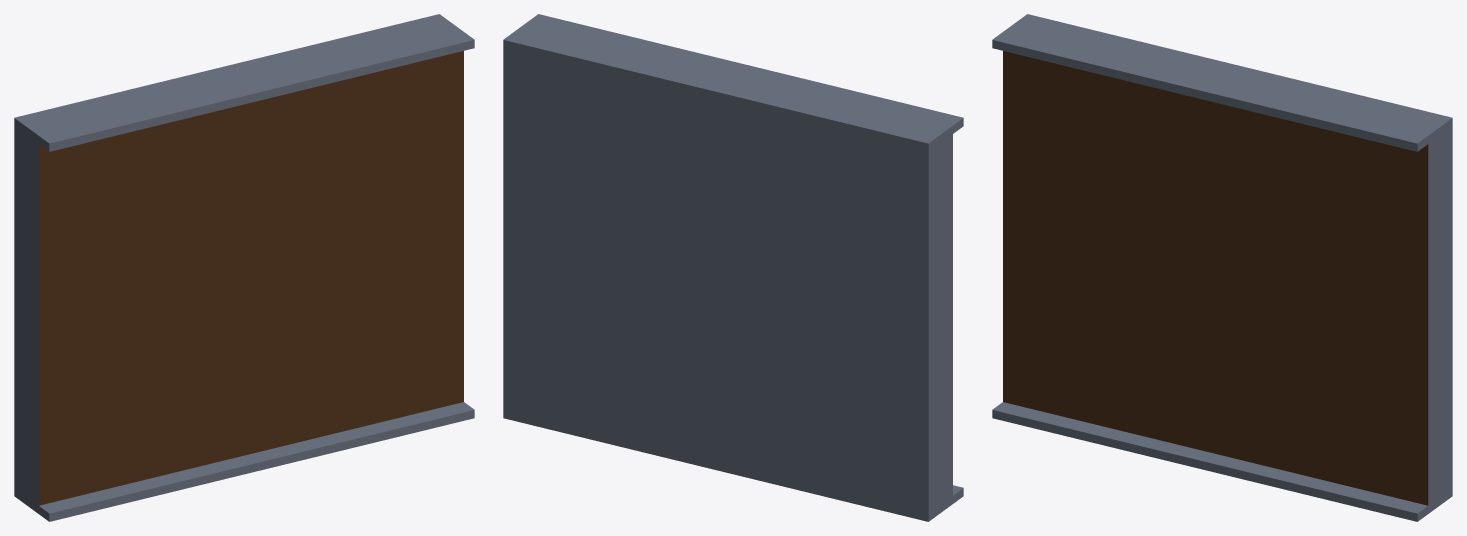
Rendered from ramp_flat.glb.
3 views of the same model, side by side, from view 1: azimuth 30°, elevation 25°; view 2: azimuth 150°, elevation 25°; view 3: azimuth 330°, elevation 25° (orthographic).
Visible parts, largest first — view 1: bridge_12_ramp_flat; view 2: bridge_12_ramp_flat; view 3: bridge_12_ramp_flat.
Boxes of the visible parts, left/top/right/bottom form: bridge_12_ramp_flat: left=14, top=14, right=474, bottom=521; bridge_12_ramp_flat: left=503, top=14, right=963, bottom=521; bridge_12_ramp_flat: left=992, top=14, right=1452, bottom=521.
Size of the model in its own units: 16 by 13.6 by 2.3.
